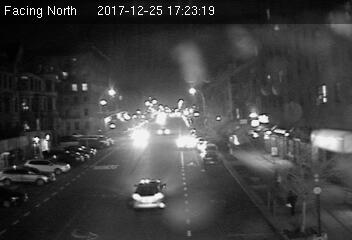car: (132, 178, 170, 212), (175, 134, 196, 150), (156, 126, 171, 135)
